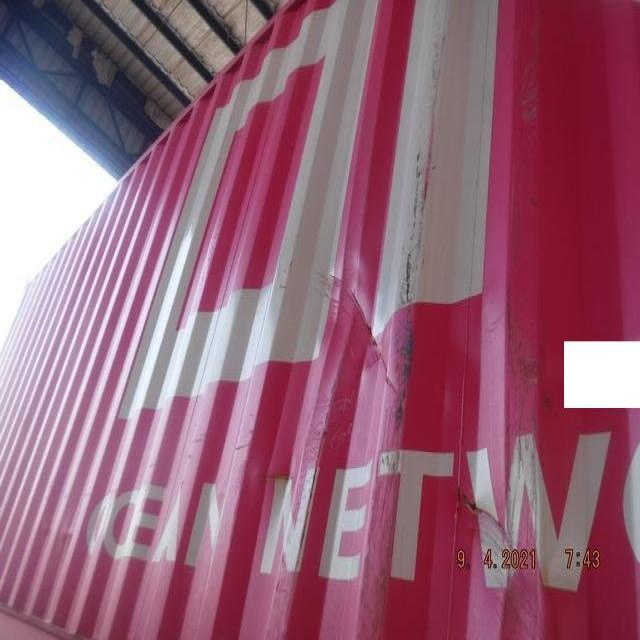Dent: (280, 248, 404, 404)
Minor-Dent: (447, 483, 547, 629), (235, 446, 305, 502)
